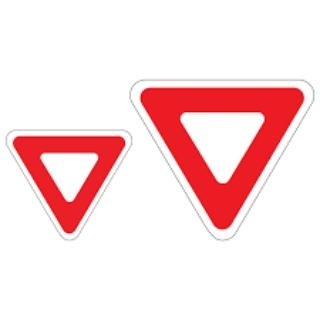sign_yield: (130, 78, 314, 240), (11, 128, 128, 237)
